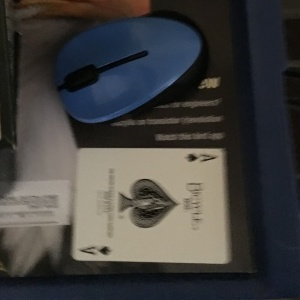card: (69, 145, 230, 265)
